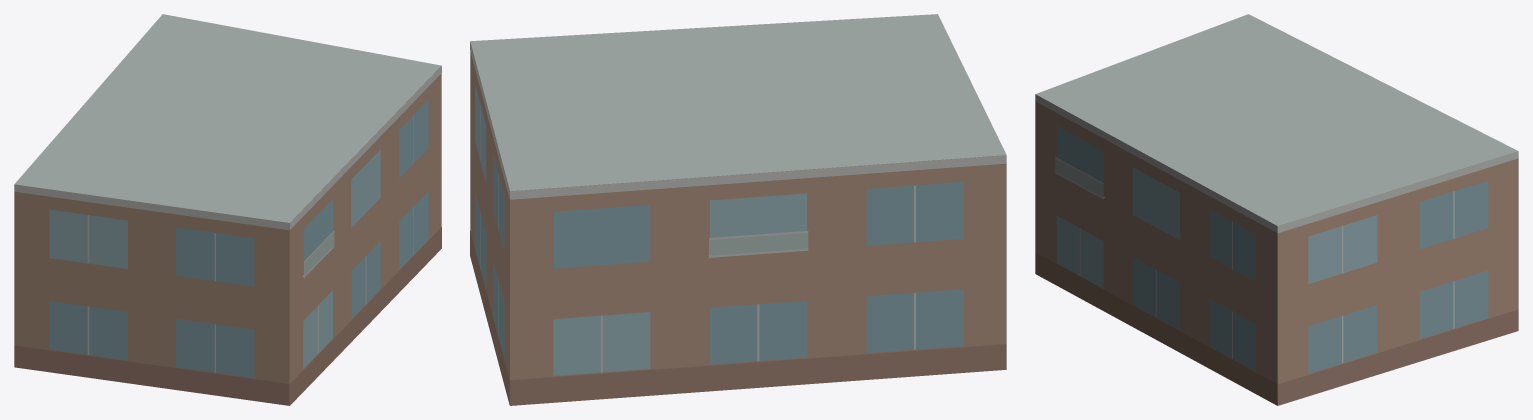
Rendered from survey-upis-32643459.glb.
The picture shows the model from 3 angles, left to right: view 1: azimuth 30°, elevation 25°; view 2: azimuth 150°, elevation 25°; view 3: azimuth 270°, elevation 25°; orthographic projection. The views are drawn at different scales.
Parts seen in each view (by area): view 1: survey-upis-32643459.tmp; view 2: survey-upis-32643459.tmp; view 3: survey-upis-32643459.tmp.
Part boxes in pixels (x1=…): survey-upis-32643459.tmp: x1=14, y1=14, x2=441, y2=405; survey-upis-32643459.tmp: x1=470, y1=14, x2=1006, y2=405; survey-upis-32643459.tmp: x1=1035, y1=14, x2=1518, y2=405.
Bounding box in the file's own units: 15.45 × 6.1 × 14.87.
